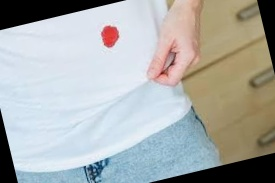blood: (97, 21, 124, 50)
